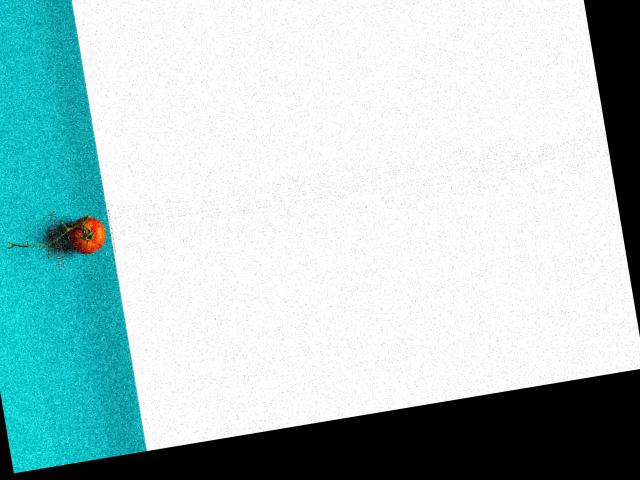tomato: (65, 213, 107, 256)
